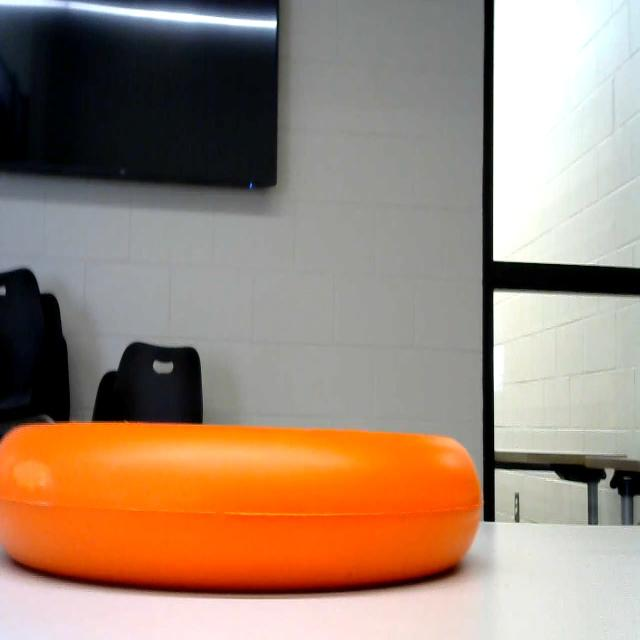note: (0, 414, 490, 598)
